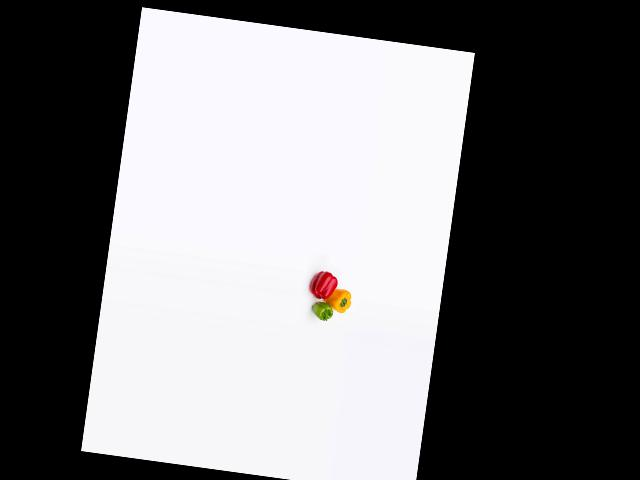bell_pepper: (309, 299, 336, 326)
